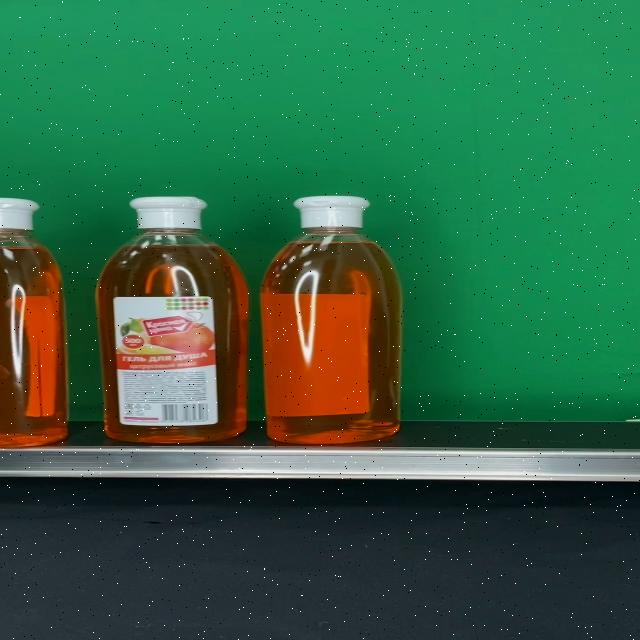Bottle: (94, 198, 250, 440), (261, 195, 401, 444)
Cap: (293, 196, 372, 230), (128, 198, 208, 230)
